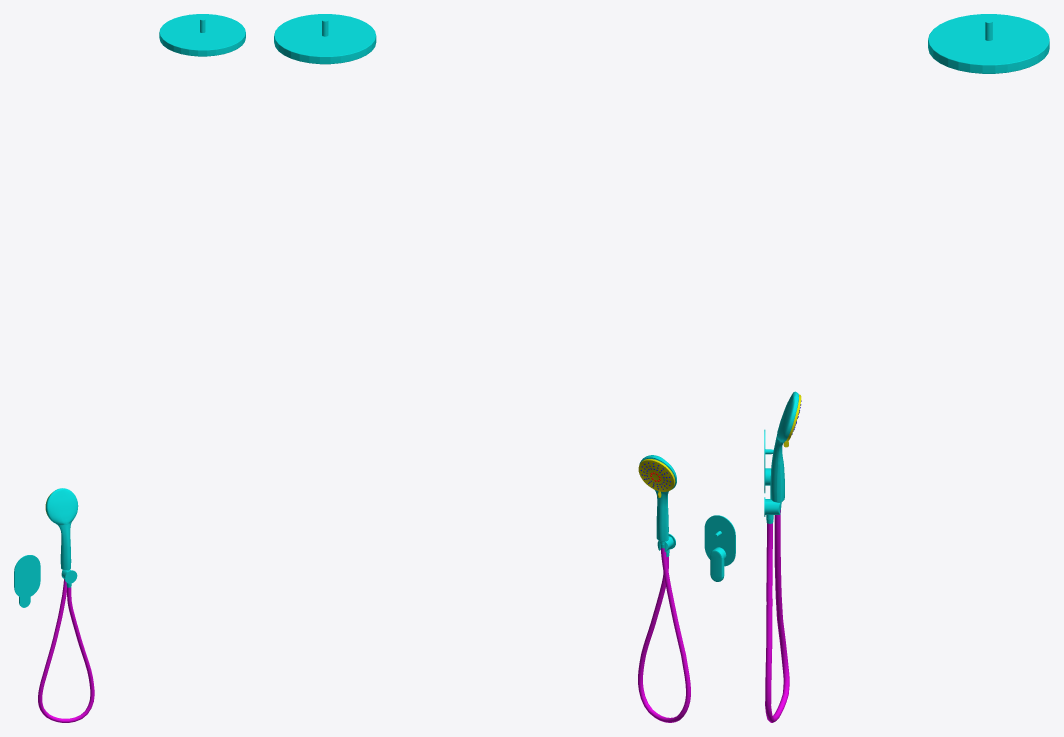
Rendered from ShowerBath02.fbx.
3 views of the same model, side by side, from view 1: azimuth 30°, elevation 25°; view 2: azimuth 150°, elevation 25°; view 3: azimuth 270°, elevation 25° (orthographic). The views are drawn at different scales.
Parts seen in each view (by area): view 1: OHShowerBath02, HoistBath02, ShowerBath02, ShowerBackPanelBath02; view 2: OHShowerBath02, HoistBath02, ShowerBackPanelBath02, ShowerHeadMuzzleBath02, ShowerBath02; view 3: OHShowerBath02, HoistBath02, ShowerBath02.
Part boxes in pixels (x1,y1,x2,y2): OHShowerBath02: [159, 14, 245, 56]; HoistBath02: [38, 579, 94, 722]; ShowerBath02: [46, 488, 78, 570]; ShowerBackPanelBath02: [14, 555, 40, 598]; OHShowerBath02: [274, 14, 376, 64]; HoistBath02: [638, 548, 690, 722]; ShowerBackPanelBath02: [704, 515, 735, 566]; ShowerHeadMuzzleBath02: [638, 460, 674, 491]; ShowerBath02: [639, 455, 676, 541]; OHShowerBath02: [928, 14, 1049, 73]; HoistBath02: [765, 510, 789, 722]; ShowerBath02: [770, 391, 798, 502].
Size of the model in its own units: 99.84 by 187 by 57.47.
